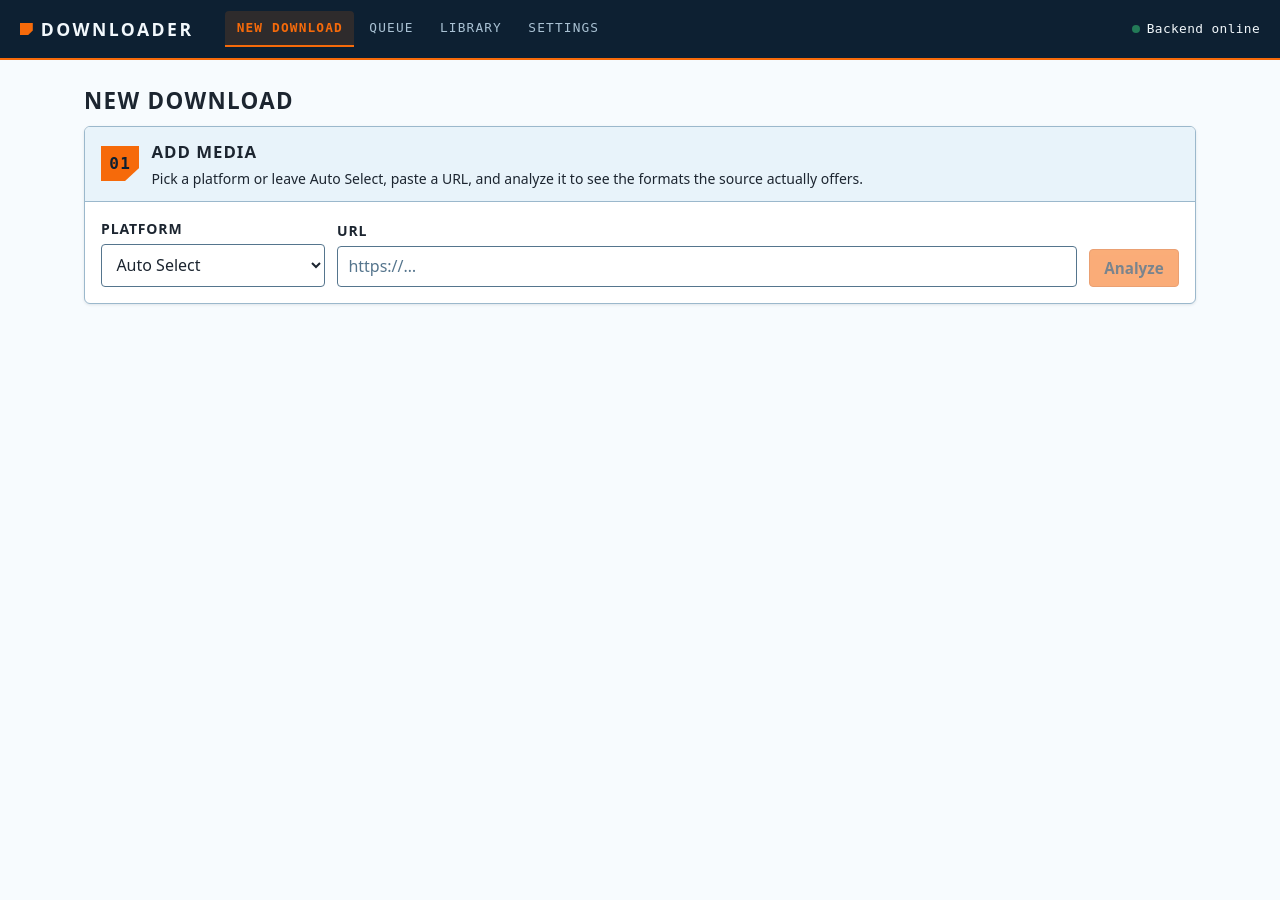
CollectionSelection › selects and deselects only the analyzed selectable items of the snapshot
Type "https://soundcloud.com/artist/sets/test-album" into the field labelled "URL" at (707, 266), box [337,246,1077,287]
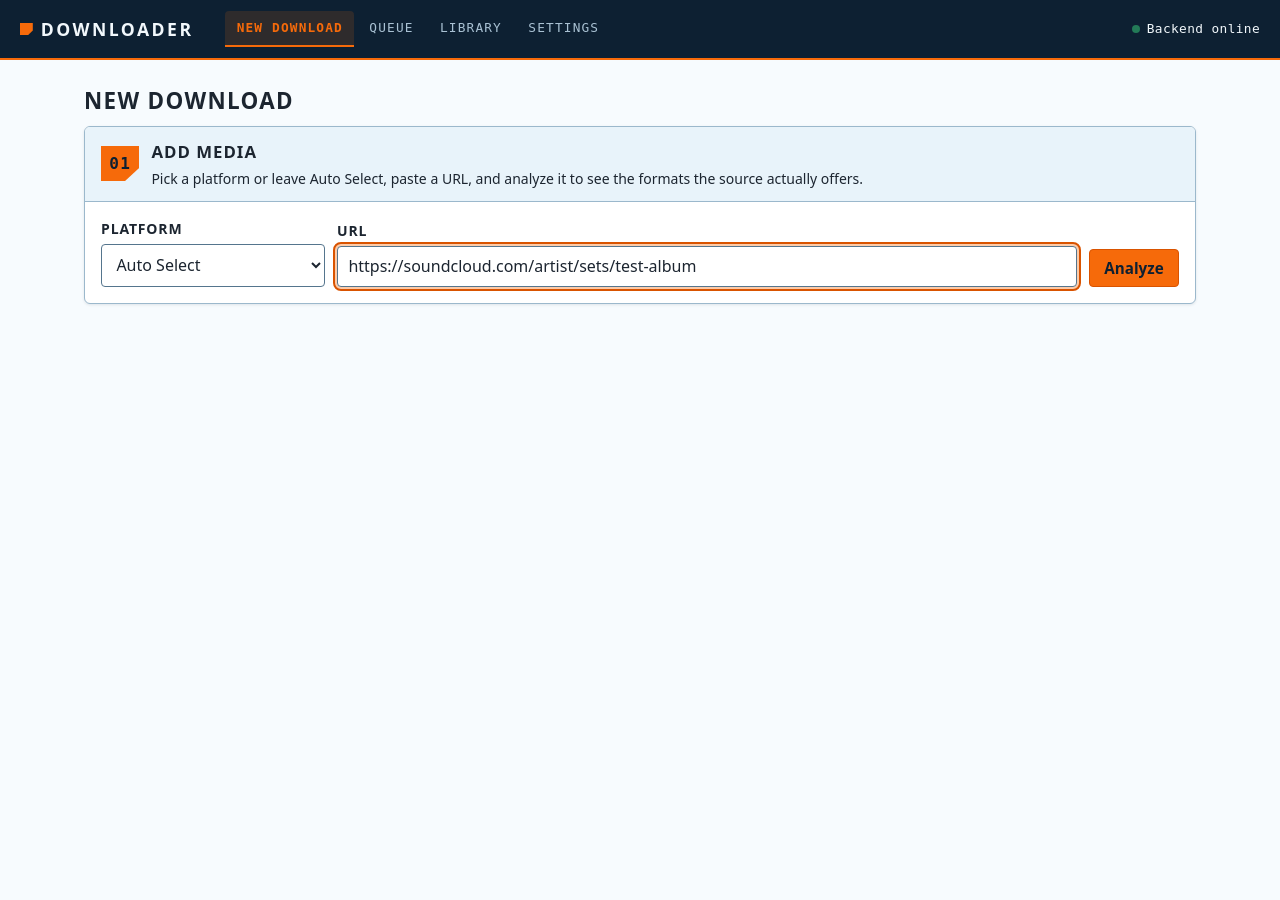
Click the button "Analyze" at (1134, 268), box [1089,249,1179,287]
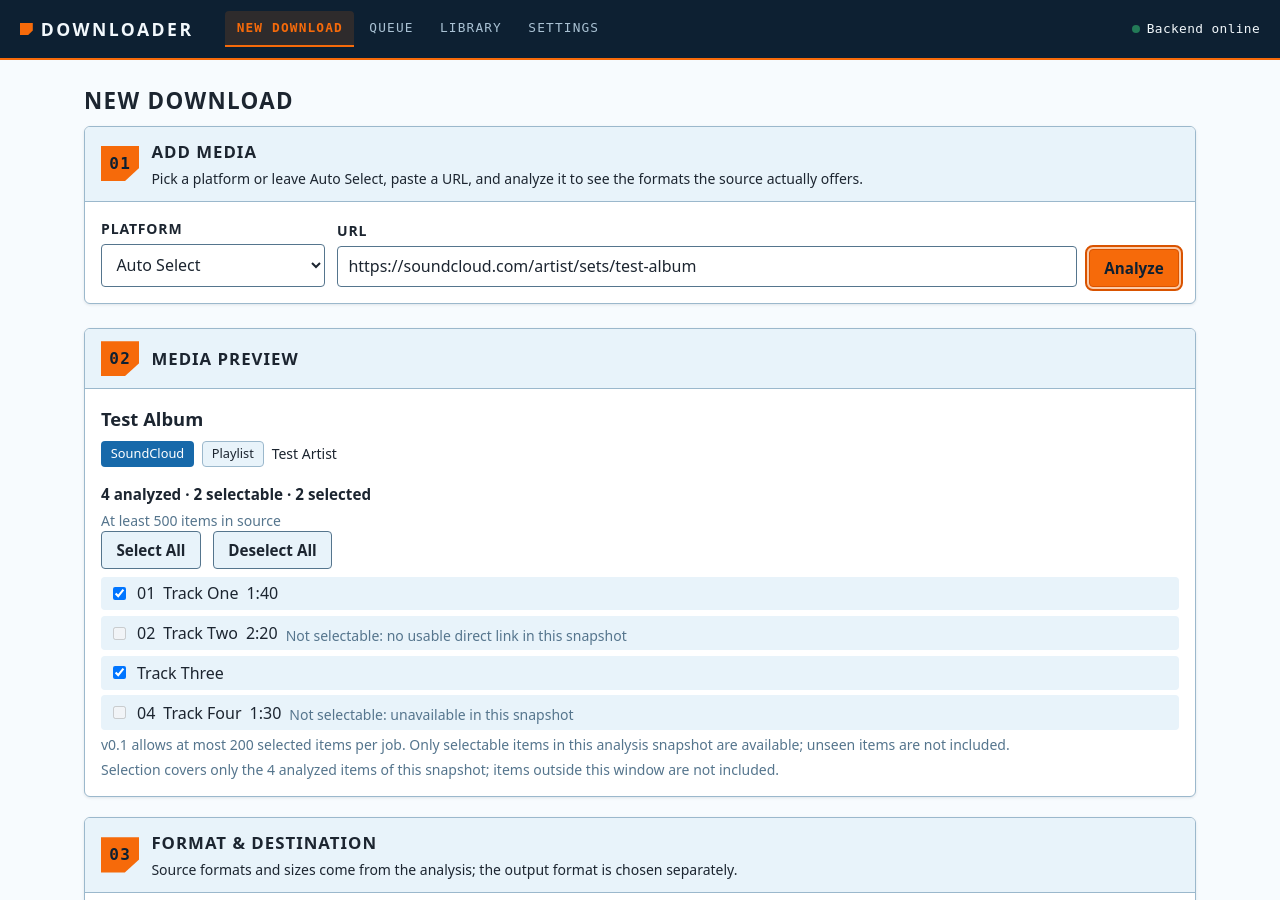
Result: the text "Track One" is shown at [163,582,238,606]
Result: the heading "4 analyzed · 2 selectable · 2 selected" is shown at [101,484,371,504]
Click the button "Deselect All" at (272, 550), box [213,531,332,569]
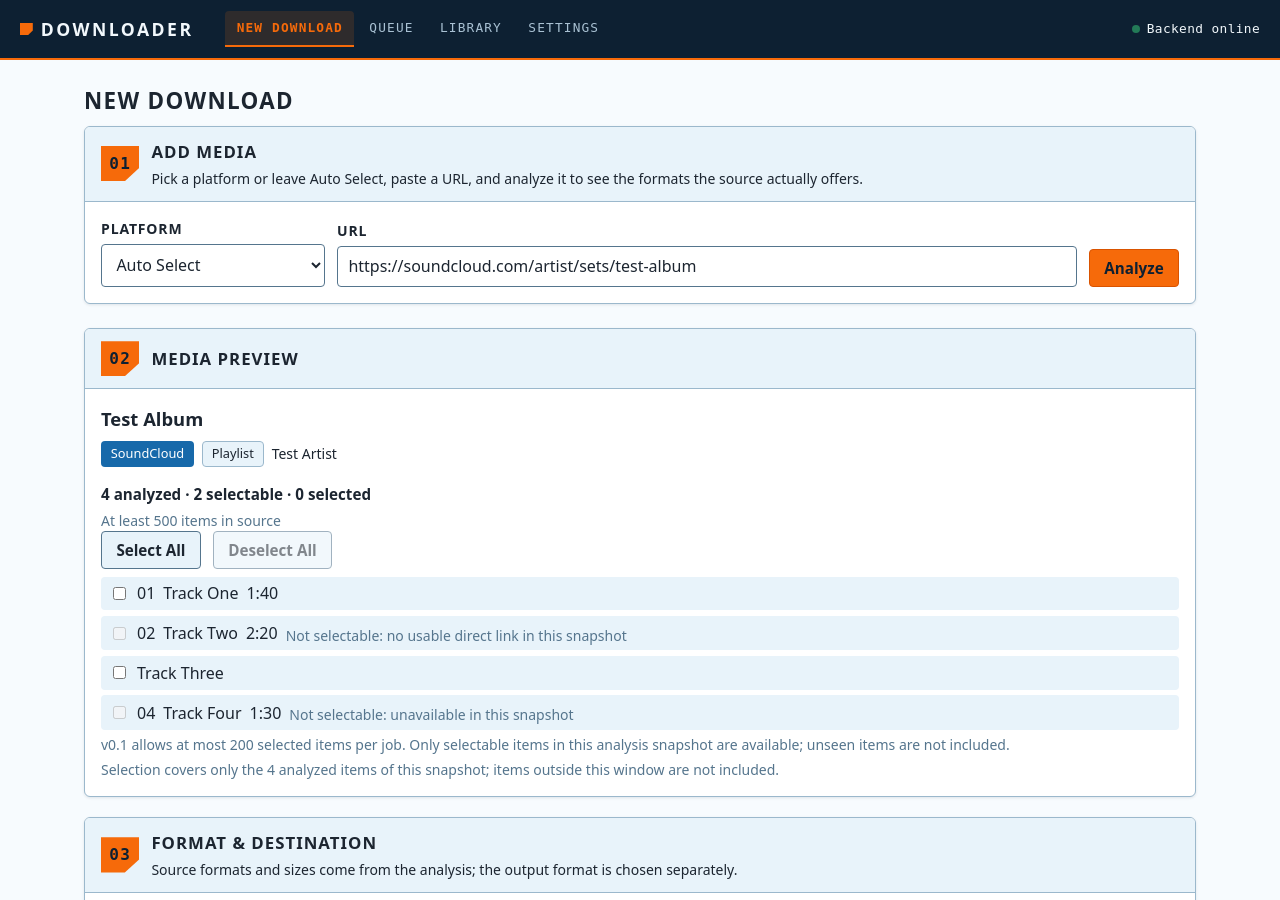
Result: the heading "4 analyzed · 2 selectable · 0 selected" is shown at [101,484,371,504]
Result: the checkbox labelled "01 Track One 1:40" is not checked at [113,587,126,600]
Result: the checkbox labelled "Track Three" is not checked at [113,666,126,679]
Click the button "Select All" at (151, 550), box [101,531,201,569]
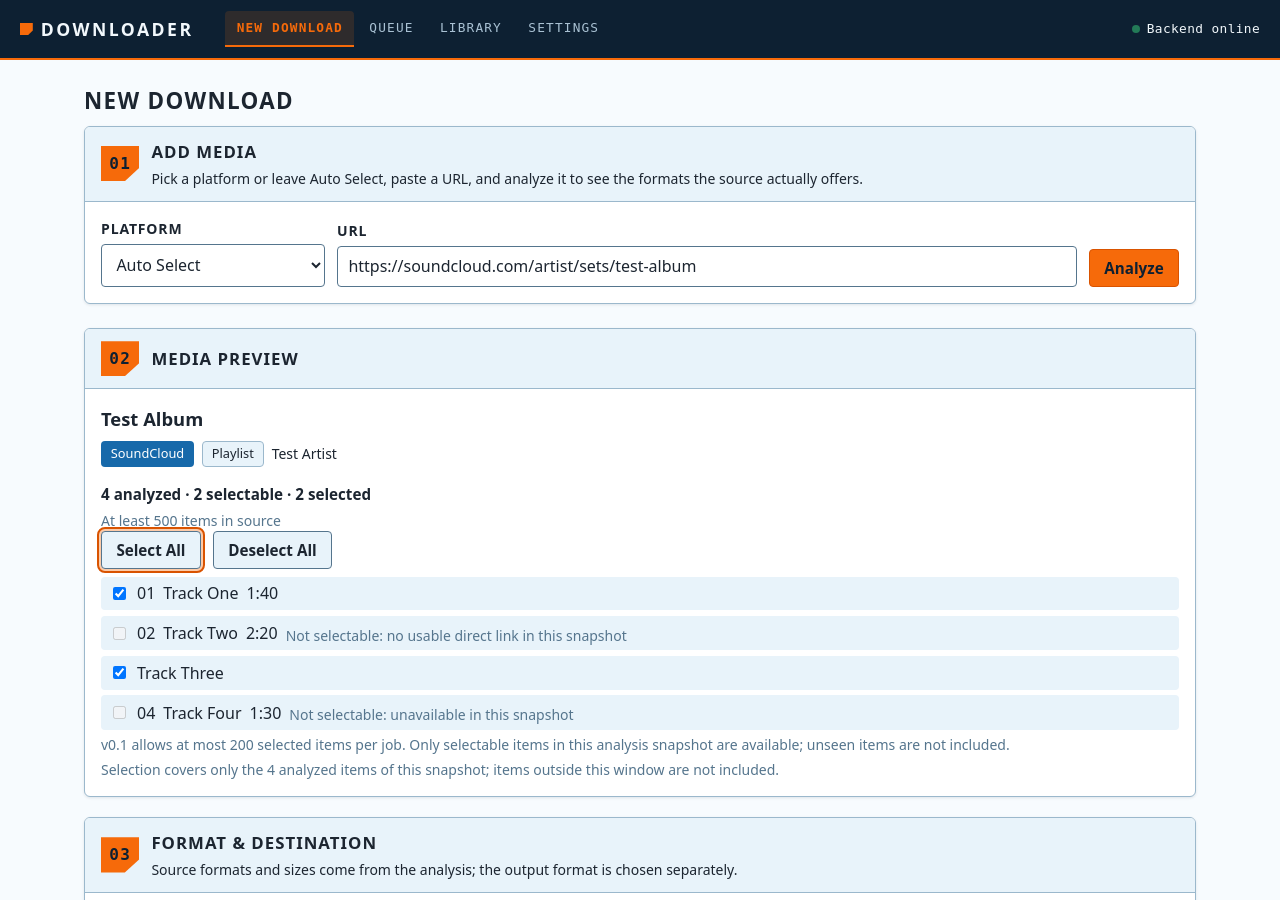
Result: the heading "4 analyzed · 2 selectable · 2 selected" is shown at [101,484,371,504]
Result: the checkbox labelled "01 Track One 1:40" is checked at [113,587,126,600]
Result: the checkbox labelled "Track Three" is checked at [113,666,126,679]
